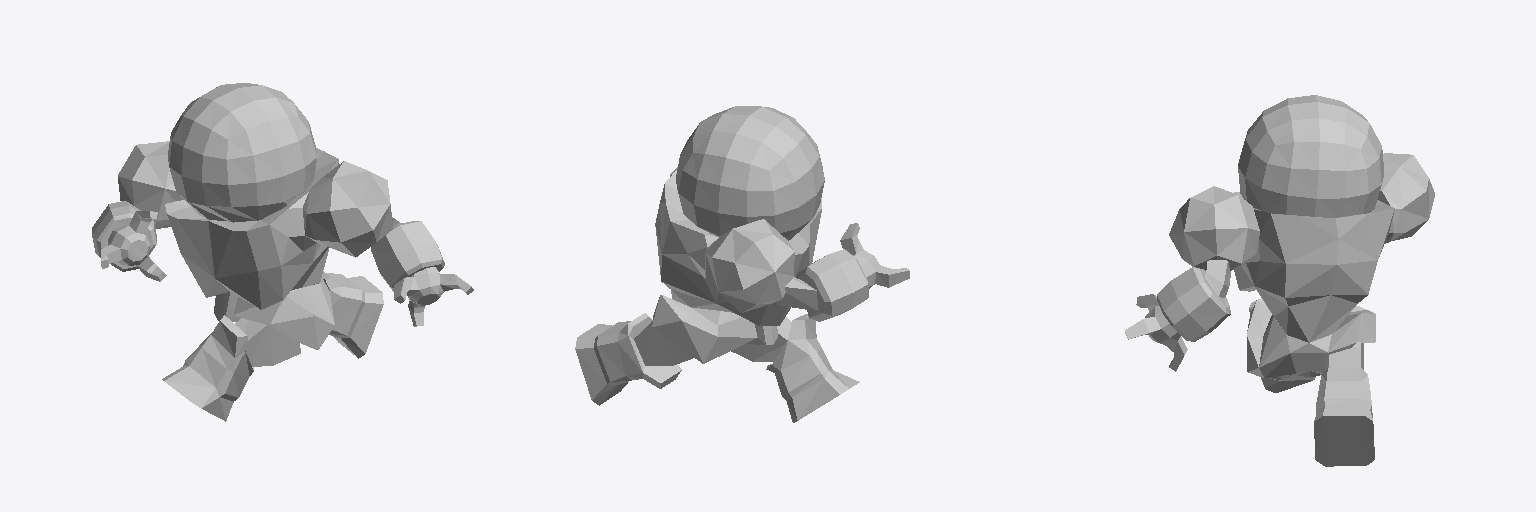
The model's file is smolBot.obj.
The picture shows the model from 3 angles: view 1: azimuth 30°, elevation 25°; view 2: azimuth 150°, elevation 25°; view 3: azimuth 270°, elevation 25°; orthographic projection.
Size of the model in its own units: 2.14 by 2.12 by 1.94.